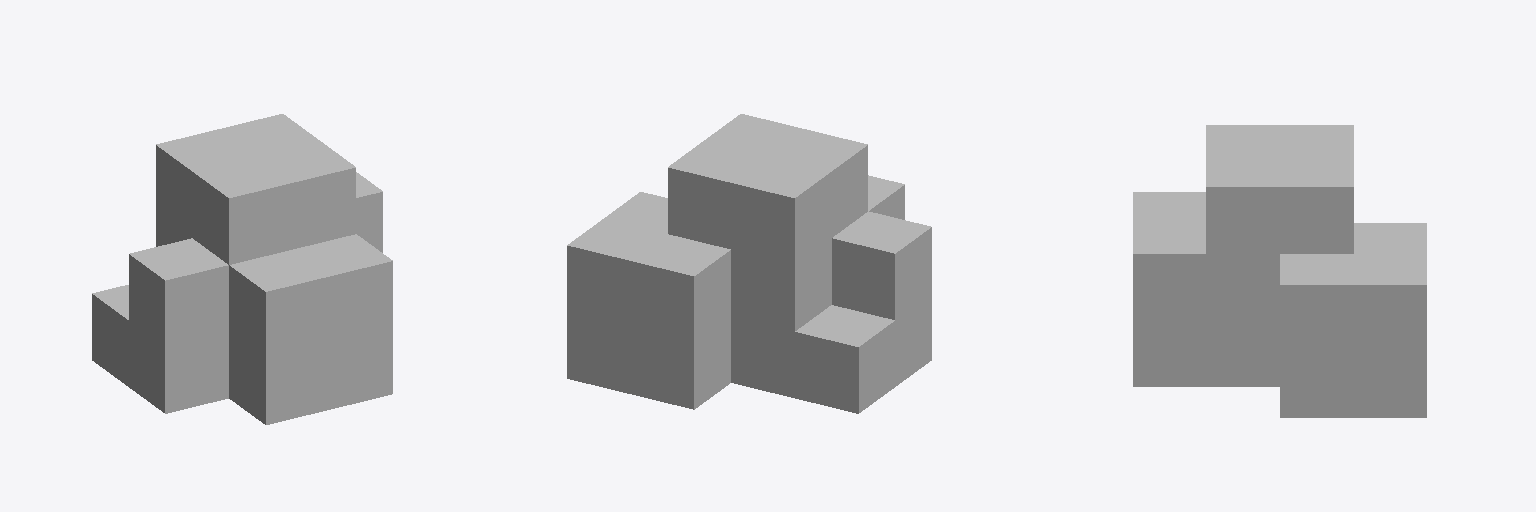
Rendered from Pedra 2.obj.
The picture shows the model from 3 angles: view 1: azimuth 30°, elevation 25°; view 2: azimuth 150°, elevation 25°; view 3: azimuth 270°, elevation 25°; orthographic projection.
Parts seen in each view (by area): view 1: object 1; view 2: object 1; view 3: object 1.
Part boxes in pixels (x1,y1,x2,y2): object 1: (92,114,392,424); object 1: (567,114,931,413); object 1: (1133,125,1426,417).
Size of the model in its own units: 0.4 by 0.3 by 0.4.